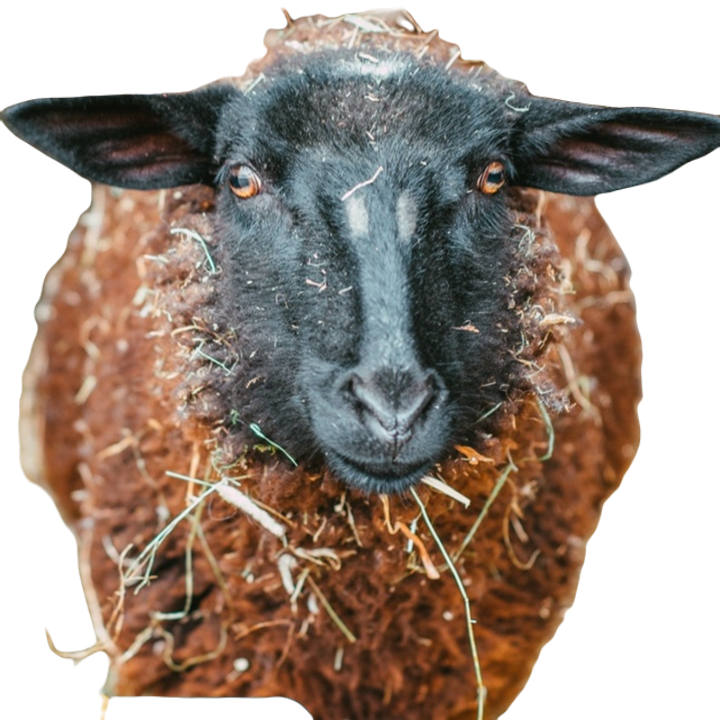Sheep: (0, 6, 720, 719)
